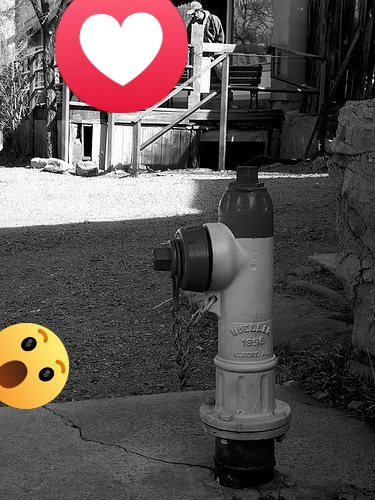love: (55, 0, 188, 113)
wow: (0, 323, 69, 409)
